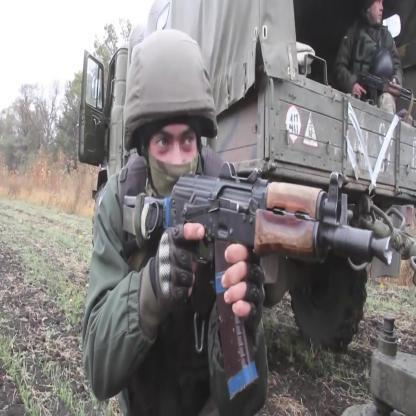Gun: (113, 136, 397, 414)
